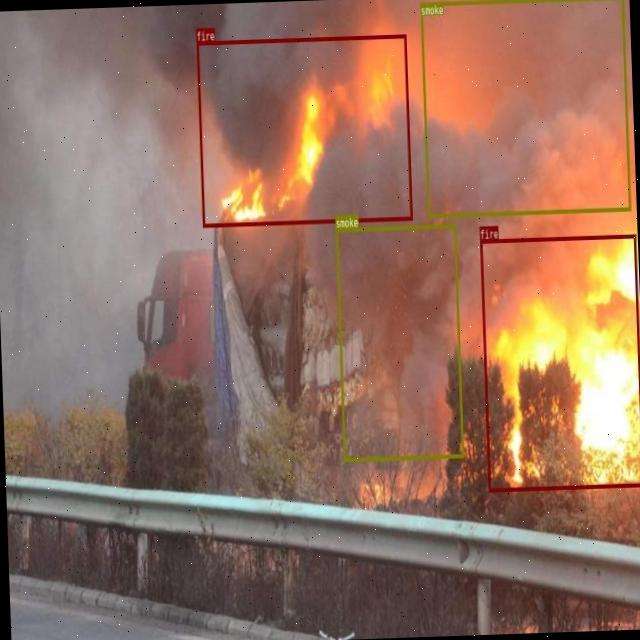fire: (196, 34, 412, 227), (479, 233, 640, 491)
smoke: (419, 0, 630, 217), (335, 224, 463, 461)
